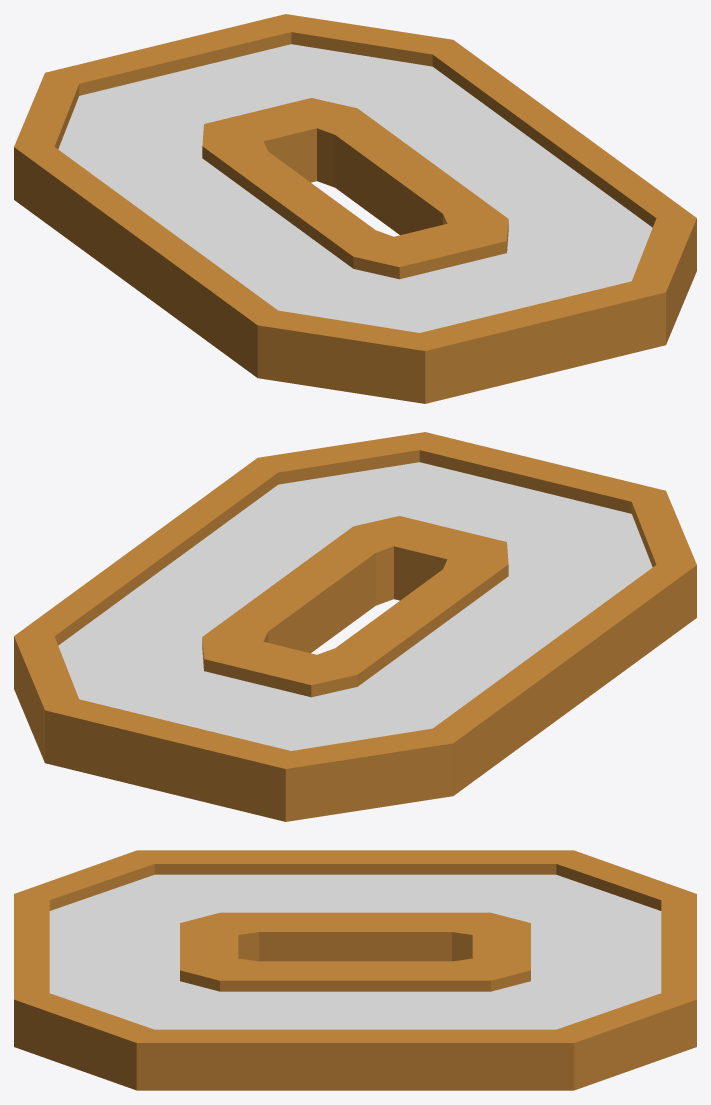
Rendered from Coin  Asia.fbx.
3 renders of one model, top to bottom at view 1: azimuth 30°, elevation 25°; view 2: azimuth 150°, elevation 25°; view 3: azimuth 270°, elevation 25°, orthographic. The views are drawn at different scales.
Visible parts, largest first — view 1: Coin; view 2: Coin; view 3: Coin.
Boxes of the visible parts, bbox=[...] form: Coin: bbox=[14, 14, 696, 403]; Coin: bbox=[14, 432, 696, 821]; Coin: bbox=[14, 850, 696, 1090].
Size of the model in its own units: 0.0452 by 0.0052 by 0.0678.
